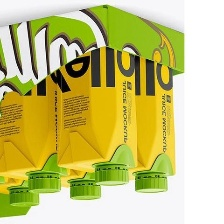carton: (56, 37, 139, 188), (0, 69, 69, 195), (123, 52, 181, 196), (55, 162, 114, 206), (0, 173, 55, 209)
